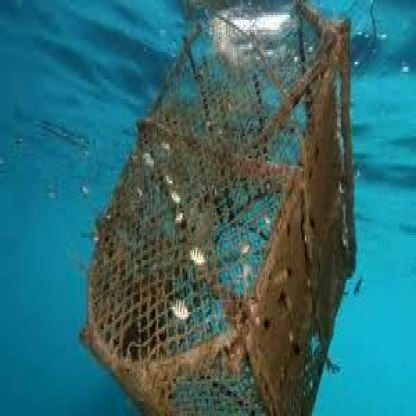net: (86, 18, 349, 414)
